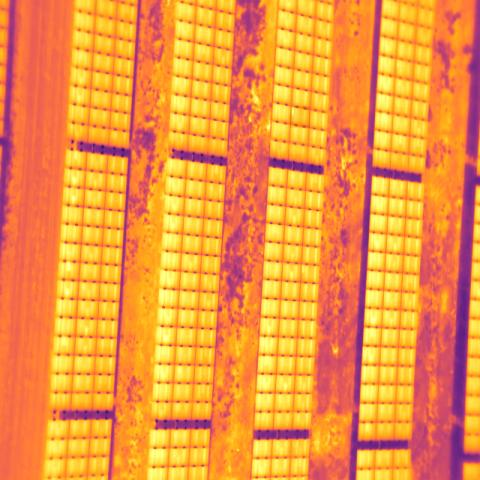fault: (290, 106, 310, 128)
